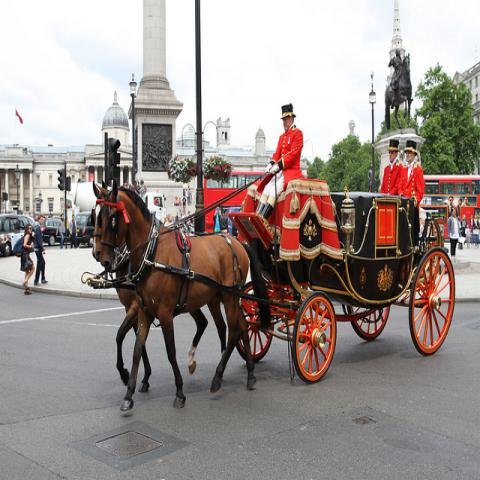bus: (419, 172, 479, 236), (204, 172, 266, 231)
car: (0, 214, 36, 257), (74, 211, 92, 247), (42, 220, 60, 247)
truck: (142, 192, 166, 224)
